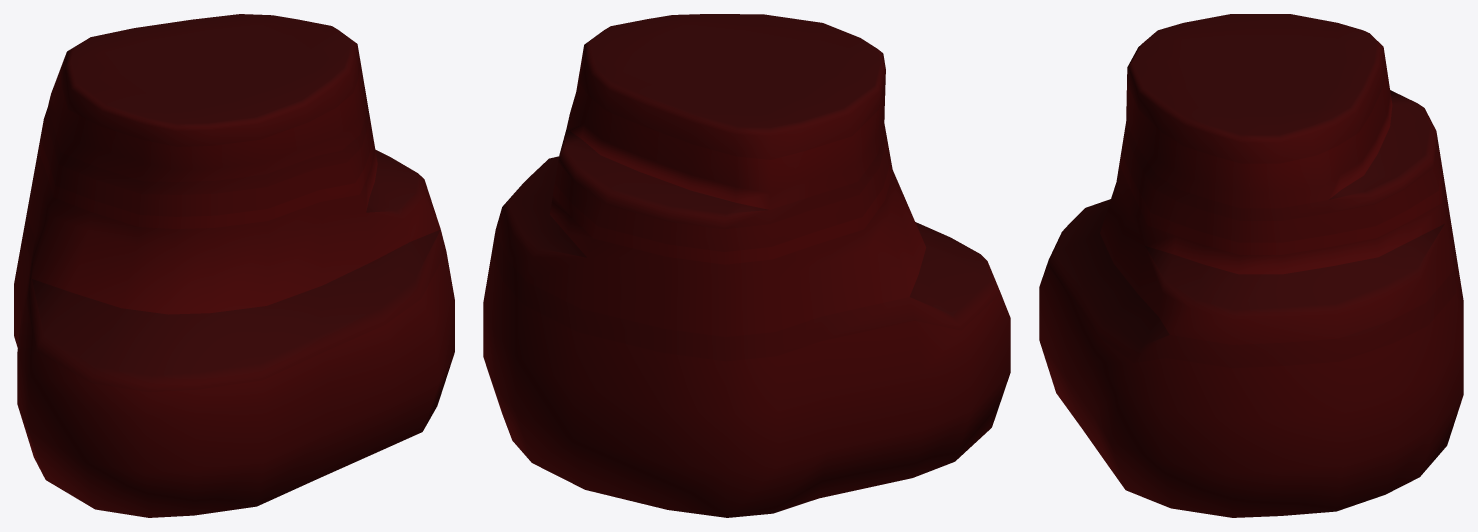
The model's file is geology-landforms-alienpillar_v5.fbx.
The picture shows the model from 3 angles, left to right: view 1: azimuth 30°, elevation 25°; view 2: azimuth 150°, elevation 25°; view 3: azimuth 270°, elevation 25°; orthographic projection. The views are drawn at different scales.
Visible parts, largest first — view 1: AlienPillar_v5; view 2: AlienPillar_v5; view 3: AlienPillar_v5.
Boxes of the visible parts, x1=… form: AlienPillar_v5: x1=14, y1=14, x2=454, y2=517; AlienPillar_v5: x1=483, y1=14, x2=1010, y2=517; AlienPillar_v5: x1=1039, y1=14, x2=1463, y2=517.
Size of the model in its own units: 44.25 by 35.38 by 38.97.
